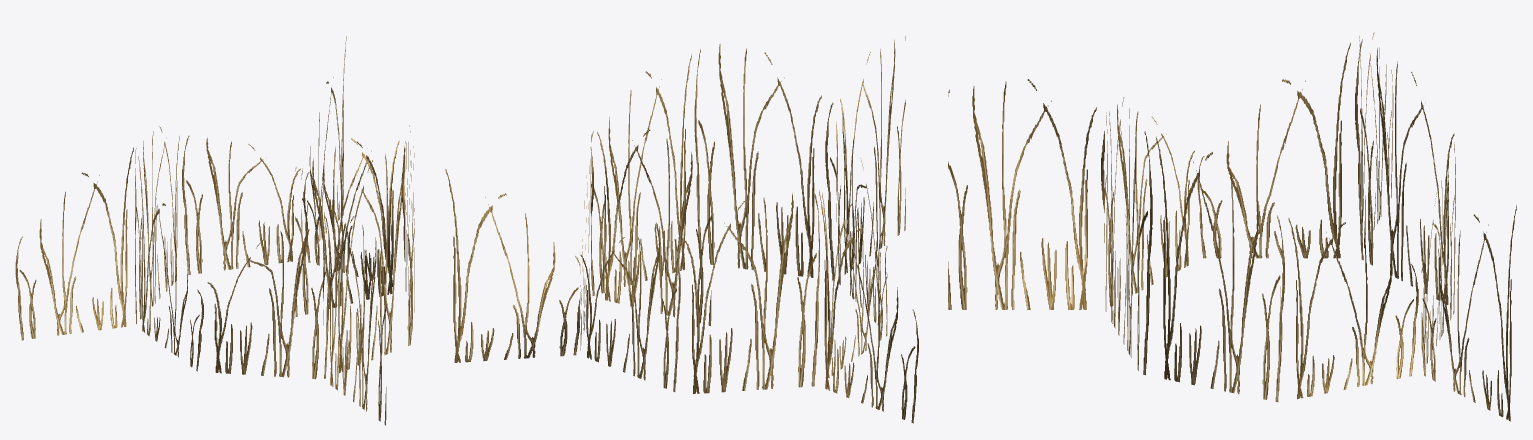
Rendered from mveg1dt.glb.
3 views of the same model, side by side, from view 1: azimuth 30°, elevation 25°; view 2: azimuth 150°, elevation 25°; view 3: azimuth 270°, elevation 25° (orthographic). The views are drawn at different scales.
Visible parts, largest first — view 1: _mveg1dt; view 2: _mveg1dt; view 3: _mveg1dt.
Part boxes in pixels (x1,y1,x2,y2): _mveg1dt: (15, 36, 414, 425); _mveg1dt: (445, 36, 918, 423); _mveg1dt: (948, 32, 1516, 421).
Bounding box in the file's own units: 4.71 × 2.58 × 4.89.
1 material, 1 textured.
